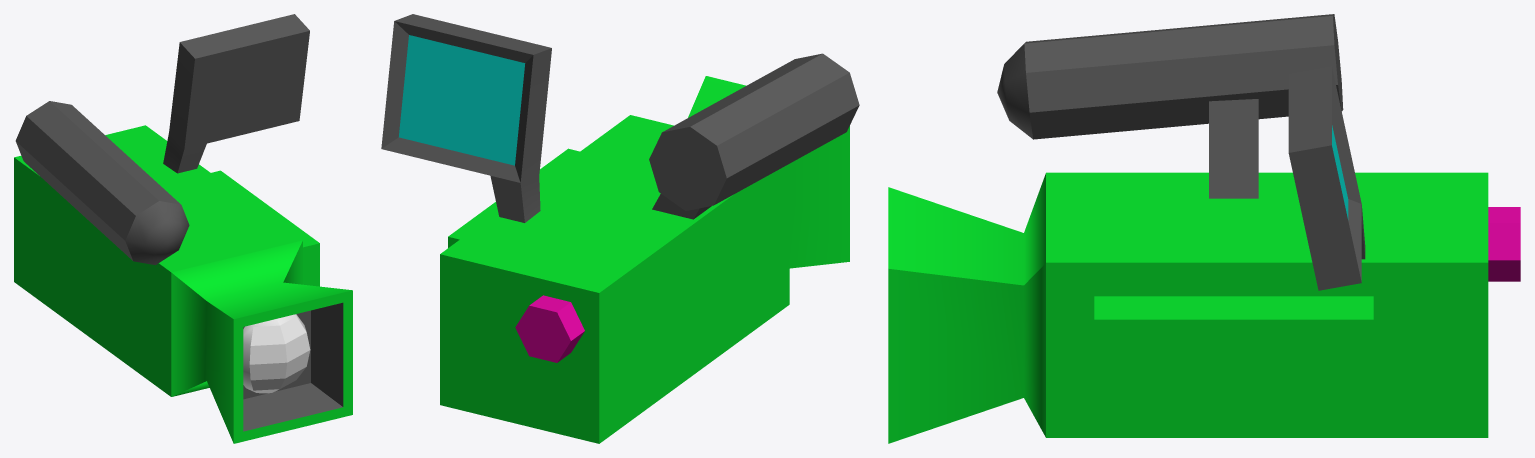
The model's file is camera.fbx.
The picture shows the model from 3 angles, left to right: view 1: azimuth 30°, elevation 25°; view 2: azimuth 150°, elevation 25°; view 3: azimuth 270°, elevation 25°; orthographic projection. The views are drawn at different scales.
Parts seen in each view (by area): view 1: camera; view 2: camera; view 3: camera.
Boxes of the visible parts, bbox=[...] form: camera: bbox=[14, 14, 352, 443]; camera: bbox=[381, 14, 859, 443]; camera: bbox=[888, 14, 1520, 443].
Bounding box in the file's own units: 1.4 × 1.26 × 1.97.
